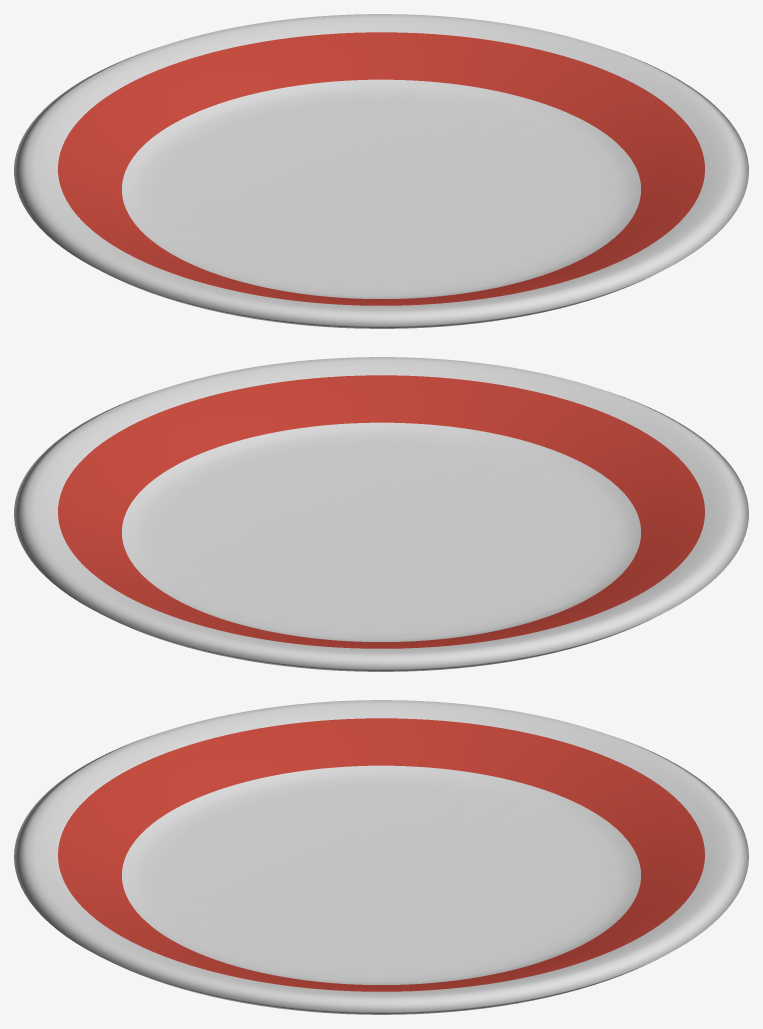
Rendered from Plate 1.fbx.
The picture shows the model from 3 angles, top to bottom: view 1: azimuth 30°, elevation 25°; view 2: azimuth 150°, elevation 25°; view 3: azimuth 270°, elevation 25°; orthographic projection.
Visible parts, largest first — view 1: Plate; view 2: Plate; view 3: Plate.
Boxes of the visible parts, bbox=[...] form: Plate: bbox=[14, 14, 748, 328]; Plate: bbox=[14, 357, 748, 671]; Plate: bbox=[14, 700, 748, 1014].
Size of the model in its own units: 303 by 30.64 by 303.
